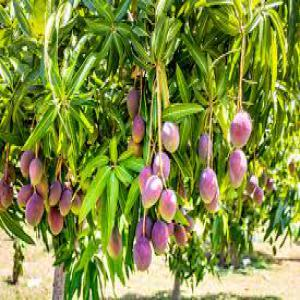Tree: (1, 0, 298, 279)
